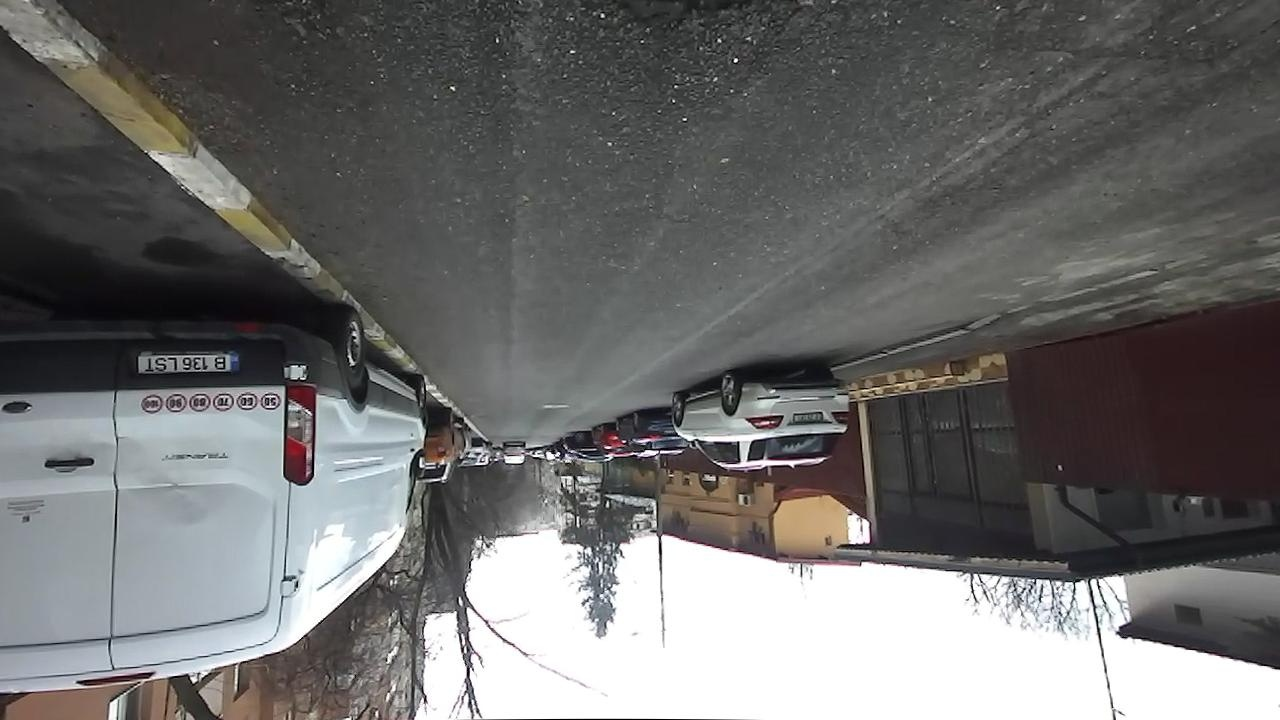pothole: (568, 0, 797, 18)
